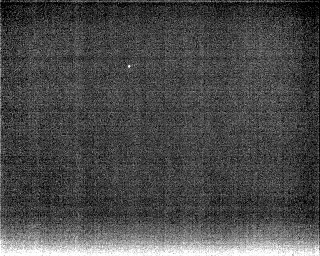BIRD: (126, 61, 133, 71)
